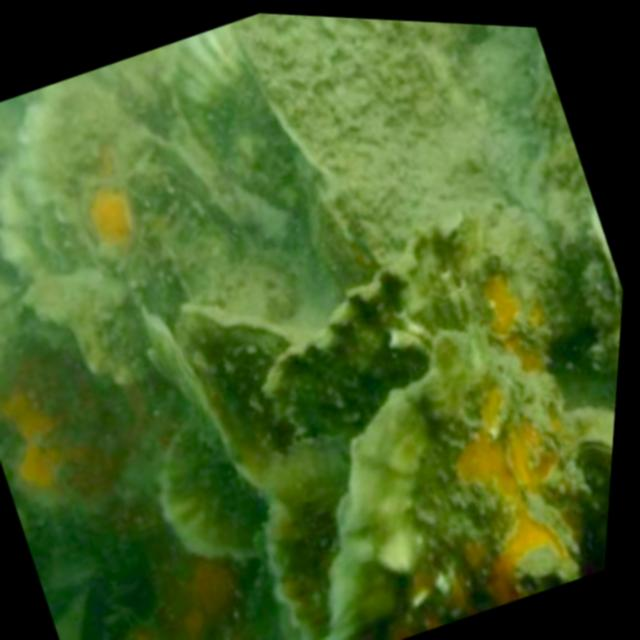Oyster-Indeterminate: (233, 13, 623, 337), (328, 340, 584, 640), (267, 219, 544, 442), (0, 84, 249, 308)
